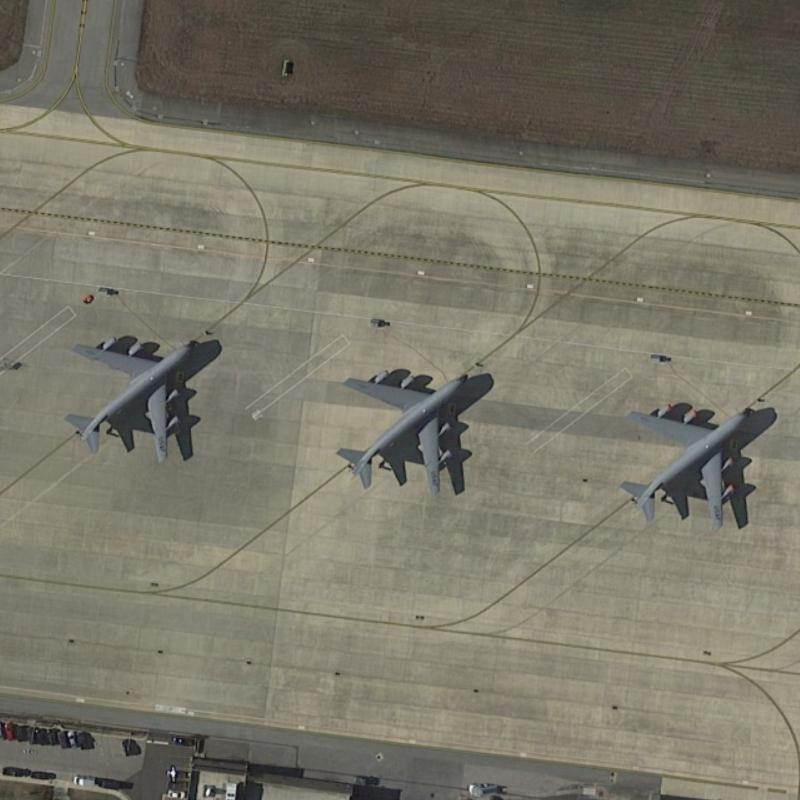A14: (327, 358, 478, 500), (608, 392, 756, 534), (63, 331, 203, 469)
